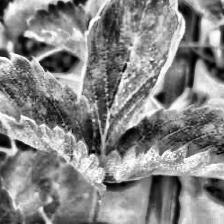Powdery Mildew Leaf: (79, 0, 188, 154), (0, 53, 108, 192), (98, 104, 224, 183)
